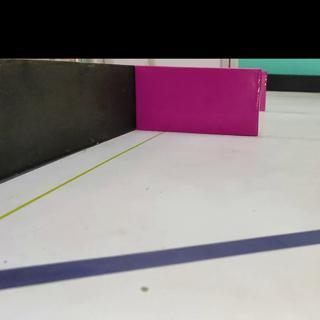xparking: (145, 69, 261, 136)
